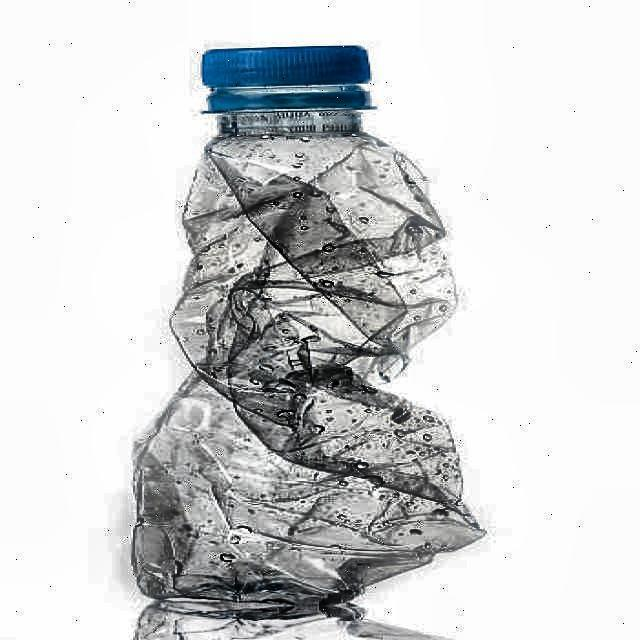plastic: (132, 46, 487, 637)
